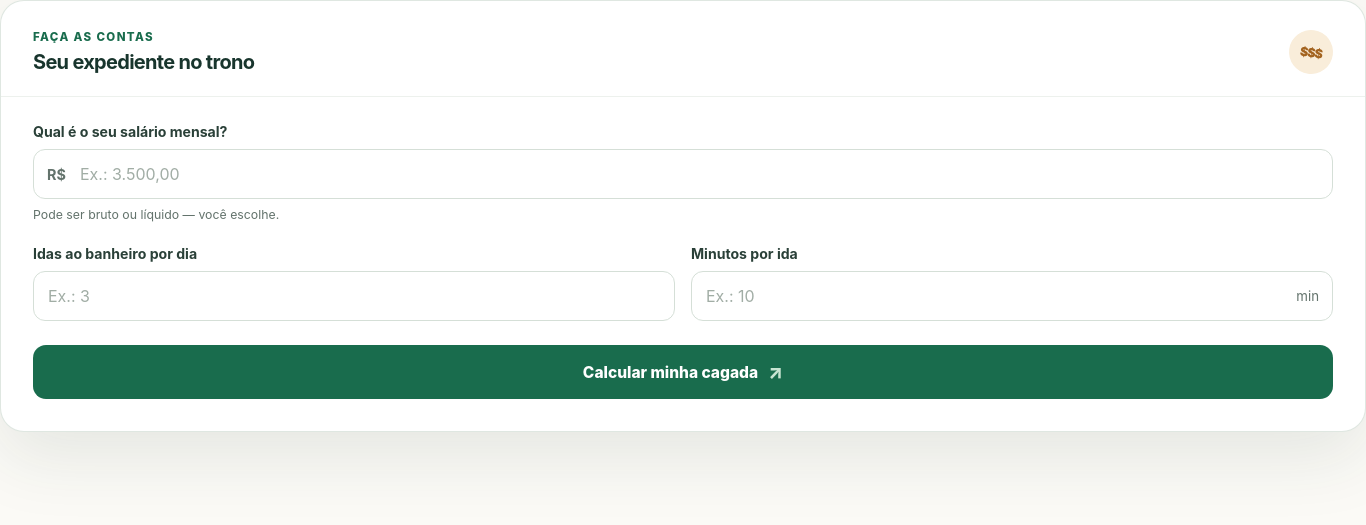
Scenario: Calculator › shows validation messages when submitted without values
Click the button "Calcular minha cagada ↗": (683, 372) [33,345,1333,399]
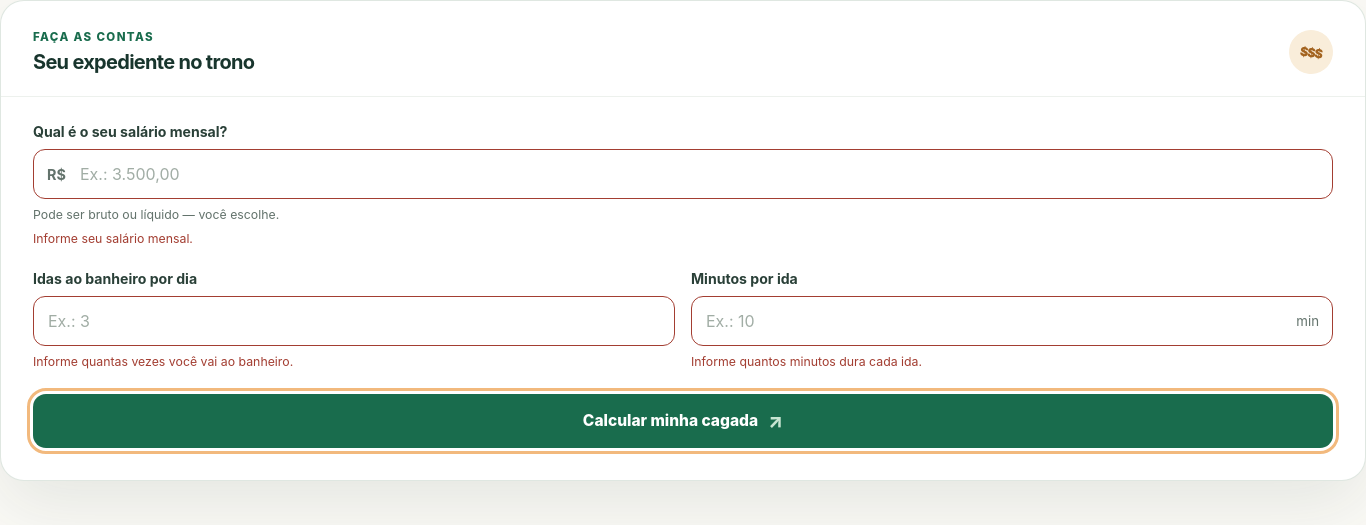
Result: the text "Informe seu salário mensal." is shown at [33,231,193,246]
Result: the text "Informe quantas vezes você vai ao banheiro." is shown at [33,354,293,369]
Result: the text "Informe quantos minutos dura cada ida." is shown at [691,354,922,369]
